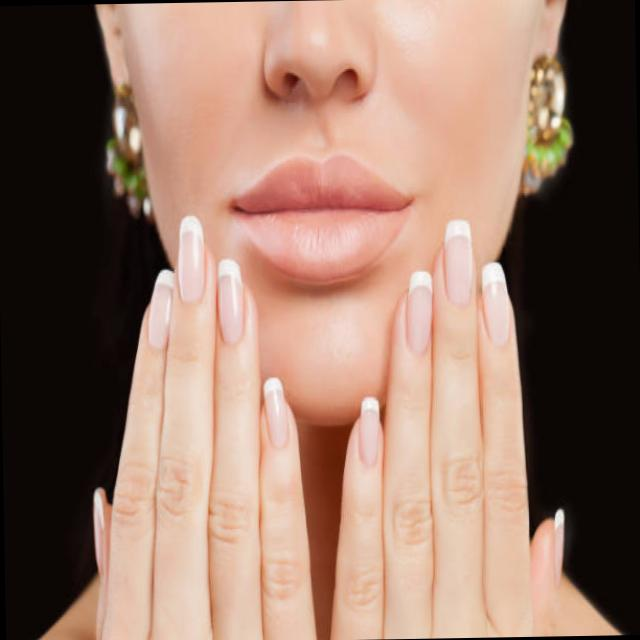Nail: (443, 219, 472, 305), (481, 262, 510, 346), (178, 216, 205, 303), (215, 258, 242, 344), (406, 269, 432, 354), (148, 269, 174, 350), (92, 489, 111, 588), (263, 376, 288, 450), (359, 397, 380, 466), (555, 509, 564, 588)
